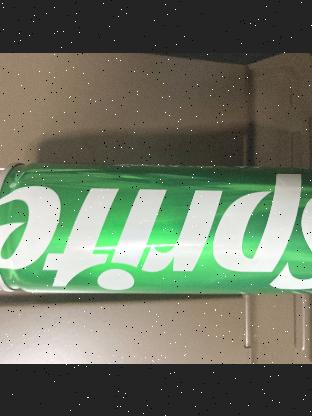Can: (0, 160, 312, 295)
